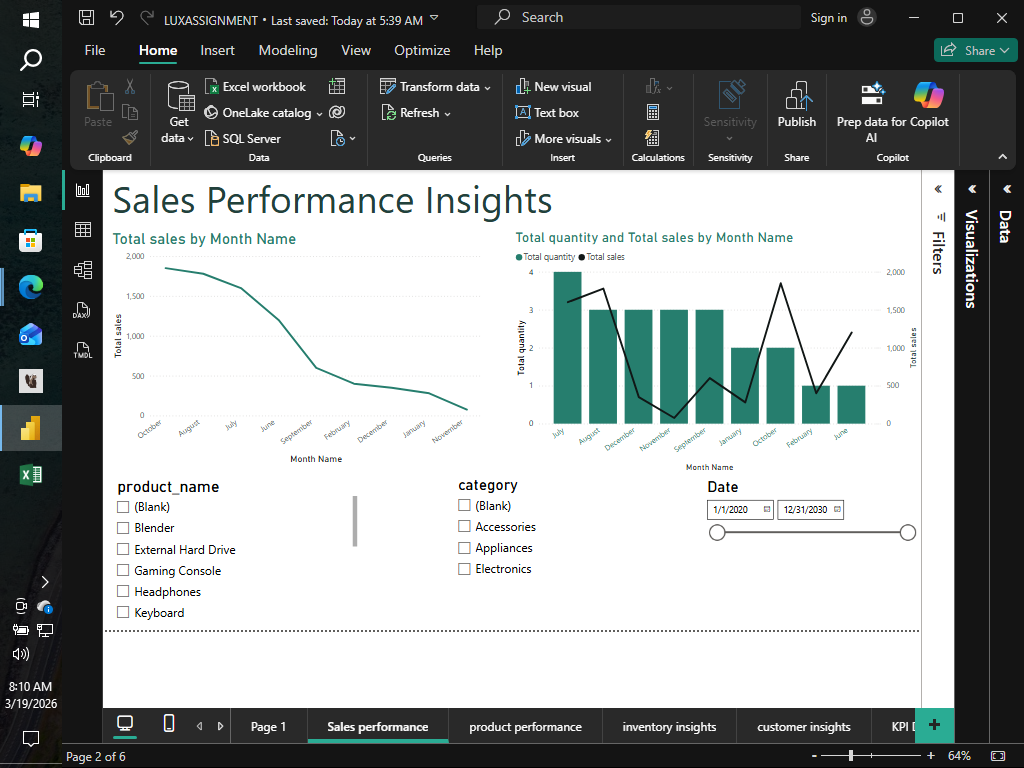

The dashboard page shown, as its layout file describes it:
{"tool":"powerbi","page":{"name":"Sales performance ","canvas":[1280,720],"ordinal":1},"visuals":[{"type":"textbox","box":[9.5,0,1270.5,91.4],"z":0},{"type":"lineChart","fields":{"Category":["Dim Date.Month Name"],"Y":["Fact sales.Total sales"]},"box":[9.5,93.3,588.6,371.4],"z":1000},{"type":"lineClusteredColumnComboChart","fields":{"Category":["Dim Date.Month Name"],"Y":["Fact sales.Total quantity"],"Y2":["Fact sales.Total sales"]},"box":[640,92.3,640,384.9],"z":2000},{"type":"slicer","fields":{"Values":["Dim products.product_name"]},"box":[9.7,474.5,394.2,245.8],"z":3000},{"type":"slicer","fields":{"Values":["Dim products.category"]},"box":[542.7,474.5,257.9,245.8],"z":4000},{"type":"slicer","fields":{"Values":["Dim Date.Date"]},"box":[932,477,348,243.3],"z":5000}]}

Visuals, with their boxes on the page's 1280x720 design canvas (x1, y1, x2, y2). These are canvas units, not pixel positions in the 1024x768 screenshot, which may show the page scaled, cropped or inside an application window:
textbox: region(10, 0, 1280, 91)
lineChart - Dim Date.Month Name x Fact sales.Total sales: region(10, 93, 598, 465)
lineClusteredColumnComboChart - Dim Date.Month Name x Fact sales.Total quantity: region(640, 92, 1280, 477)
slicer - Dim products.product_name: region(10, 474, 404, 720)
slicer - Dim products.category: region(543, 474, 801, 720)
slicer - Dim Date.Date: region(932, 477, 1280, 720)
